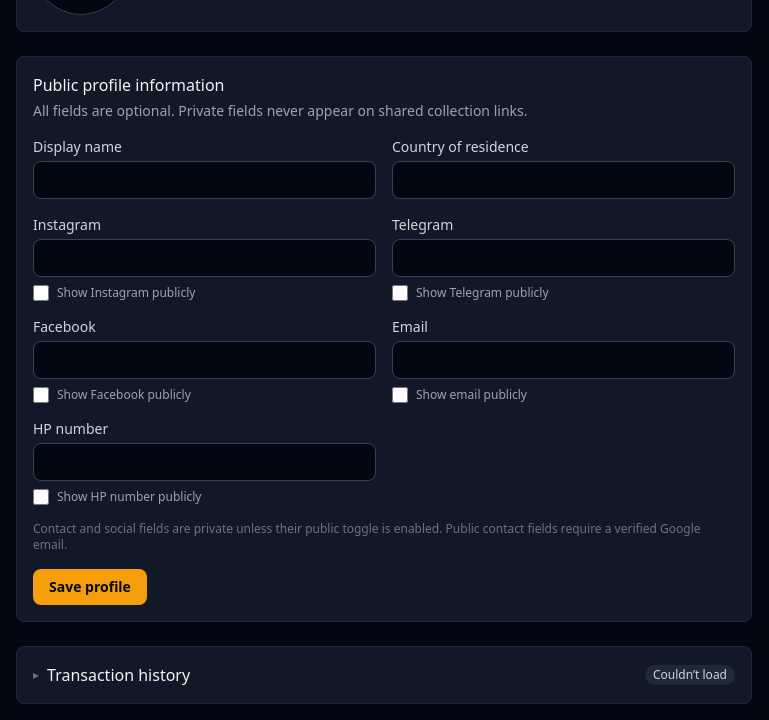
Test case: SettingsPage transaction history › section disclosure (REQ-ACC-1) › surfaces the load error in the chip and the body (AC-ACC-1.4/1.6)
(page scrolled)
Expected: the text "Couldn’t load" is shown, 645,665 -> 735,685
What coordinates should you click on to do the following:
click the button "▸ Transaction history Couldn’t load"
I would click on:
 (119, 675)
Its box is 33,663 -> 735,687.
(page scrolled)
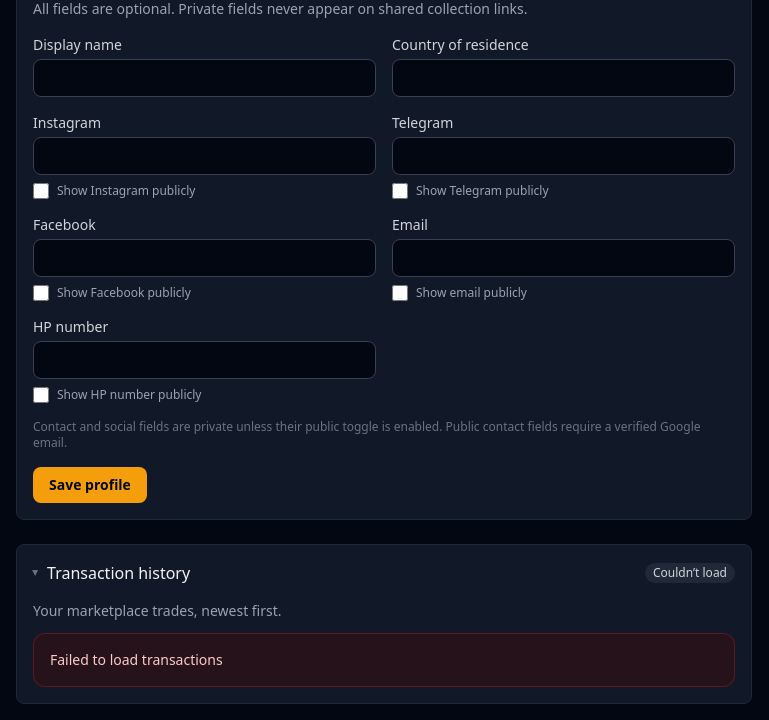
Expected: the text "Failed to load transactions" is shown, 33,633 -> 735,687
